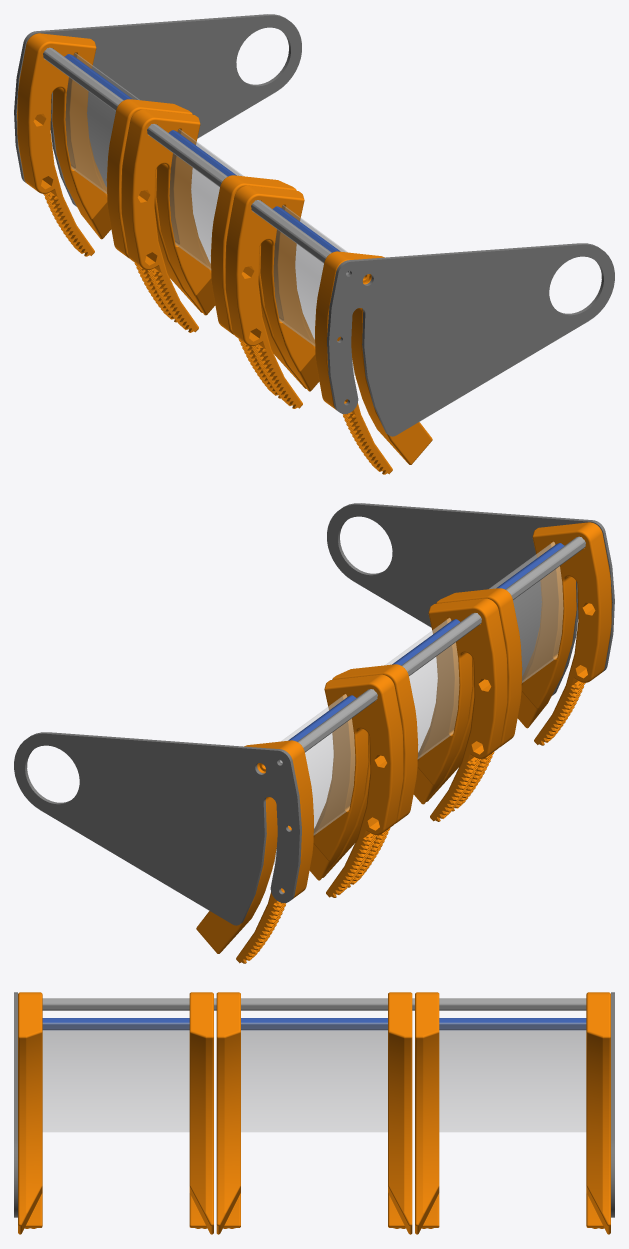
3 views of the same model, one above another, from view 1: azimuth 30°, elevation 25°; view 2: azimuth 150°, elevation 25°; view 3: azimuth 270°, elevation 25° (orthographic). The views are drawn at different scales.
Parts seen in each view (by area): view 1: 3D-P Hood Segment (×3), Part 23, Part 16, Spur gear (315 teeth) (×3), Part 22 (×3), 3/8" ThunderHex (18.199 in); view 2: Spur gear (315 teeth) (×3), Part 16, Part 23, 3D-P Hood Segment (×3), Part 22 (×3), 3/8" ThunderHex (18.199 in); view 3: Part 22 (×3), 3D-P Hood Segment (×3), Spur gear (315 teeth) (×3), 3/8" ThunderHex (18.199 in), 3/8" ThunderHex (4.513 in) (×3), Part 16, Part 23.
Part boxes in pixels (<box>): 3D-P Hood Segment (×3): <box>17,33,319,408</box>; Part 23: <box>327,243,614,436</box>; Part 16: <box>14,14,301,206</box>; Spur gear (315 teeth) (×3): <box>106,99,432,474</box>; Part 22 (×3): <box>65,53,355,375</box>; 3/8" ThunderHex (18.199 in): <box>43,47,349,275</box>; Spur gear (315 teeth) (×3): <box>309,522,611,897</box>; Part 16: <box>14,732,301,925</box>; Part 23: <box>327,503,614,695</box>; 3D-P Hood Segment (×3): <box>196,588,522,963</box>; Part 22 (×3): <box>273,542,563,864</box>; 3/8" ThunderHex (18.199 in): <box>279,536,585,764</box>; Part 22 (×3): <box>42,1022,586,1132</box>; 3D-P Hood Segment (×3): <box>189,992,610,1234</box>; Spur gear (315 teeth) (×3): <box>18,992,439,1234</box>; 3/8" ThunderHex (18.199 in): <box>42,998,586,1010</box>; 3/8" ThunderHex (4.513 in) (×3): <box>42,1018,586,1030</box>; Part 16: <box>611,992,614,1217</box>; Part 23: <box>14,992,17,1217</box>.
Size of the model in its own units: 0.2456 by 0.1863 by 0.4686.
